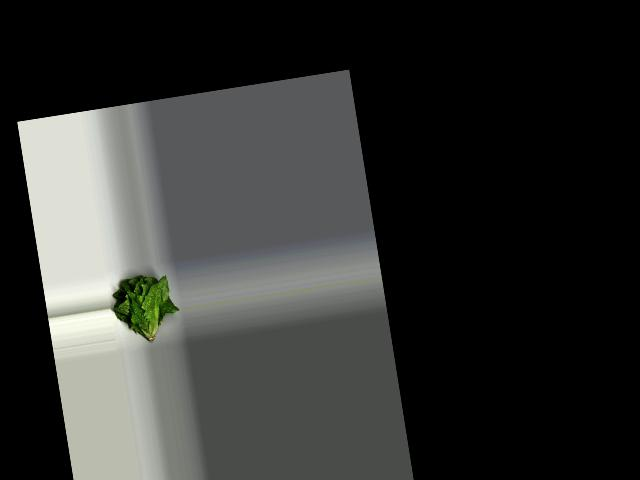lettuce: (108, 269, 183, 348)
